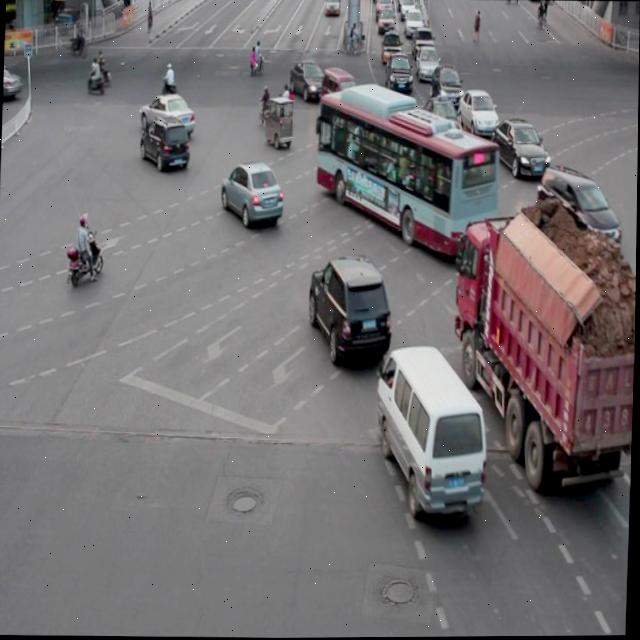bus: (450, 217, 637, 484)
car: (308, 252, 393, 363), (537, 162, 622, 244), (219, 159, 285, 227), (440, 141, 500, 206), (490, 117, 549, 179), (140, 112, 191, 170), (138, 92, 195, 137), (457, 89, 499, 138), (422, 94, 460, 142)
truck: (372, 344, 489, 517)
van: (312, 90, 500, 257)
